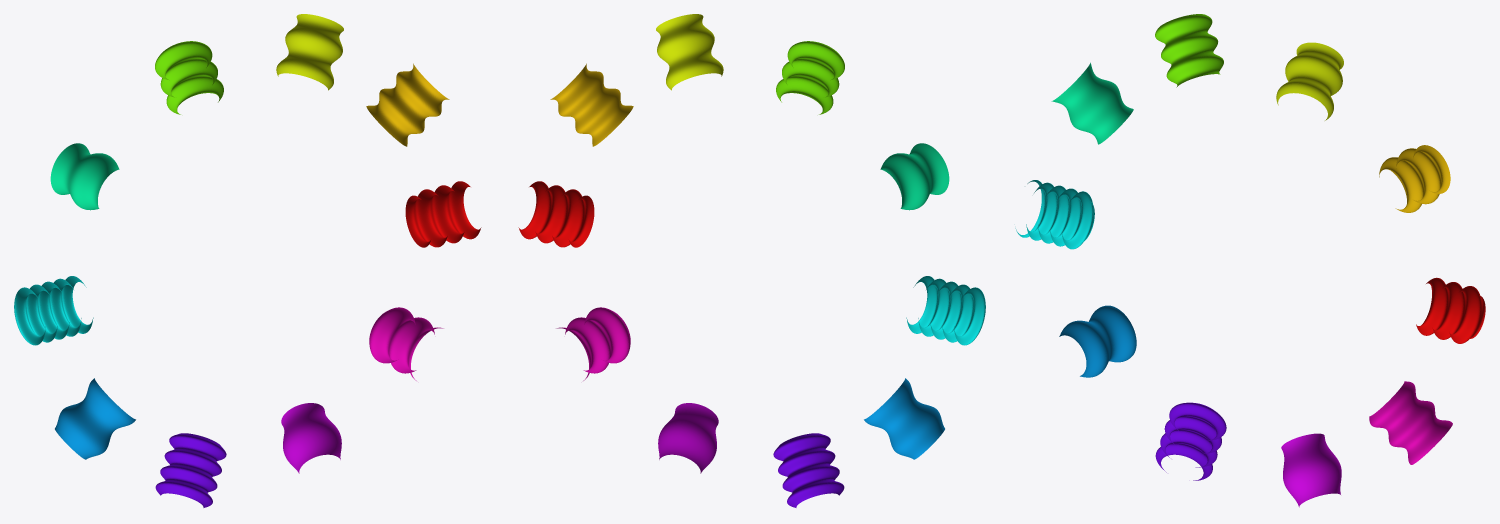
Rendered from cylinders.glb.
The picture shows the model from 3 angles, left to right: view 1: azimuth 30°, elevation 25°; view 2: azimuth 150°, elevation 25°; view 3: azimuth 330°, elevation 25°; orthographic projection.
Bounding box in the file's own units: 2 × 1.96 × 0.23.
